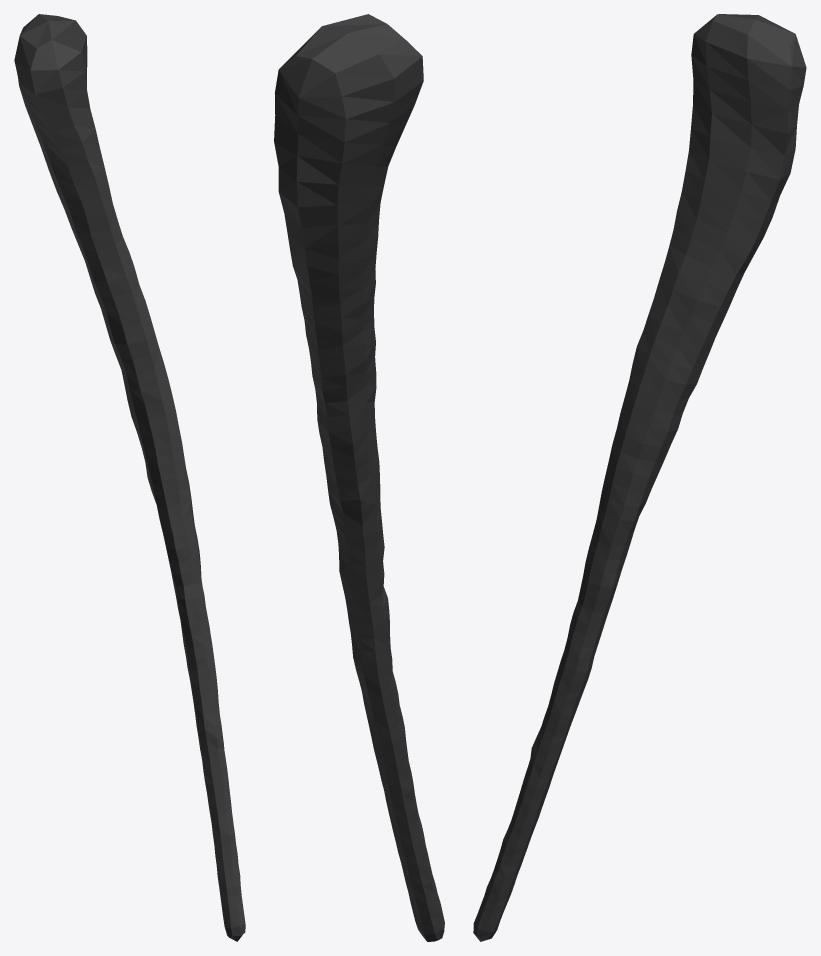
Rendered from RHL_MT_splint1.glb.
The picture shows the model from 3 angles, left to right: view 1: azimuth 30°, elevation 25°; view 2: azimuth 150°, elevation 25°; view 3: azimuth 270°, elevation 25°; orthographic projection. The views are drawn at different scales.
Parts seen in each view (by area): view 1: RHL_MT_splint1; view 2: RHL_MT_splint1; view 3: RHL_MT_splint1.
Boxes of the visible parts, left/top/right/bottom form: RHL_MT_splint1: left=14, top=14, right=245, bottom=941; RHL_MT_splint1: left=274, top=14, right=444, bottom=941; RHL_MT_splint1: left=473, top=14, right=806, bottom=941.
Bounding box in the file's own units: 5.25 × 35.88 × 12.14.
Materials: 1 (1 with a texture image).
